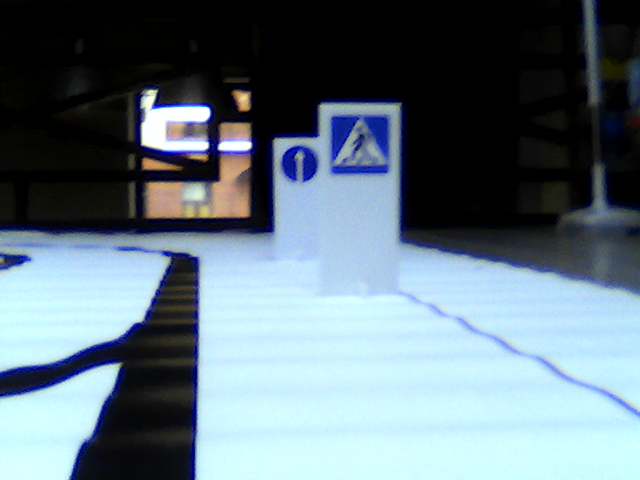forw: (281, 145, 317, 180)
pesh: (331, 114, 387, 174)
